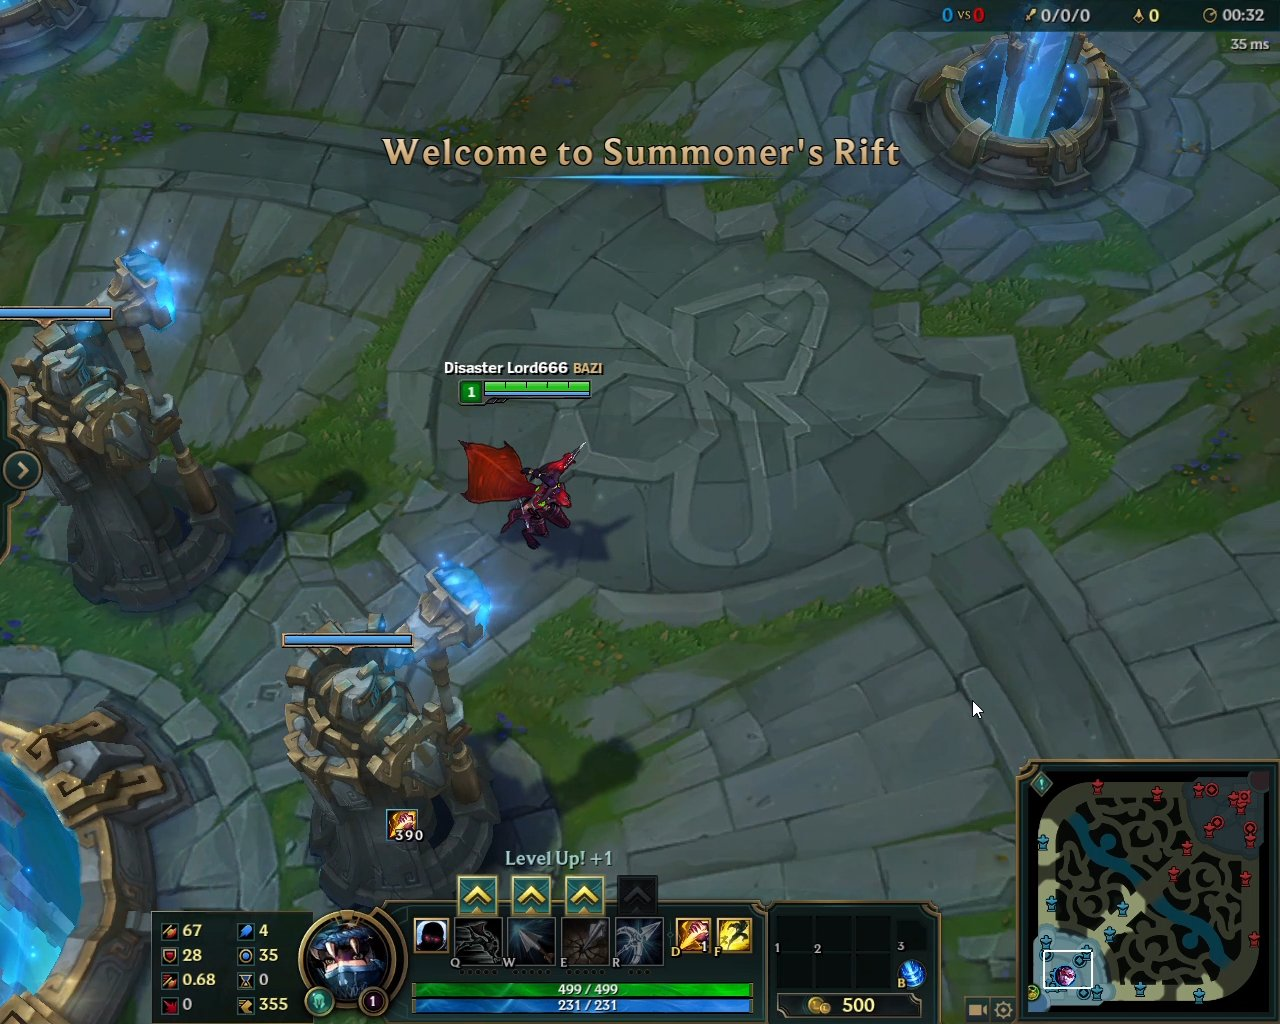Vayne: (453, 424, 592, 555)
